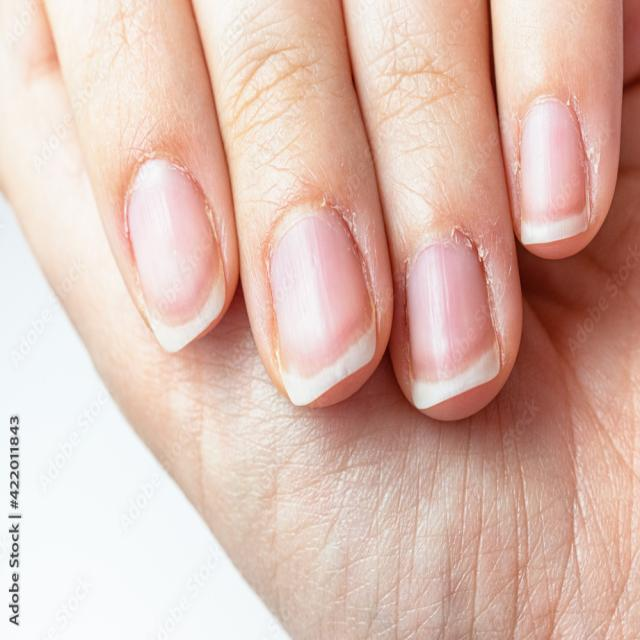Fingernail: (268, 203, 377, 409), (126, 160, 228, 355), (407, 234, 502, 410), (517, 100, 589, 247)
